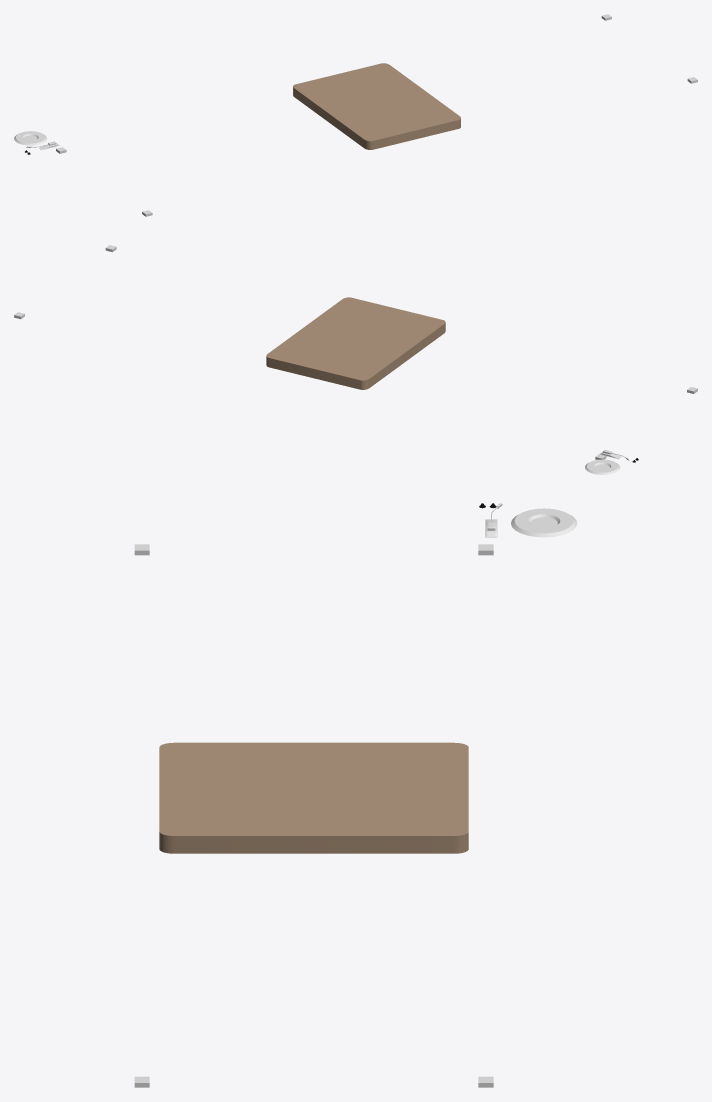
Rendered from turntable.glb.
3 renders of one model, top to bottom at view 1: azimuth 30°, elevation 25°; view 2: azimuth 150°, elevation 25°; view 3: azimuth 270°, elevation 25°, orthographic. The views are drawn at different scales.
Parts seen in each view (by area): view 1: Player, Player.001; view 2: Player, Player.001; view 3: Player, Player.001.
Part boxes in pixels (bbox=[...]): Player: bbox=[293, 63, 460, 149]; Player.001: bbox=[14, 131, 47, 145]; Player: bbox=[266, 297, 445, 389]; Player.001: bbox=[585, 459, 620, 474]; Player: bbox=[159, 742, 468, 853]; Player.001: bbox=[511, 508, 577, 537].
Size of the model in its own units: 2.75 by 0.0651 by 0.9032.
